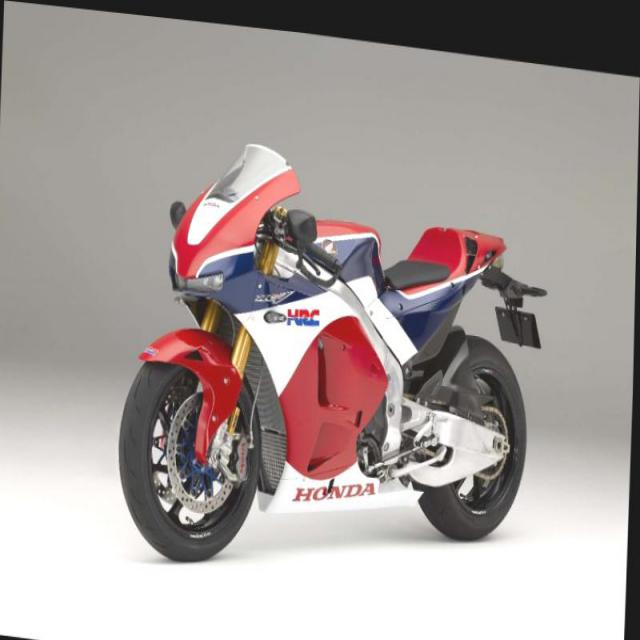HRC RCV 213: (115, 120, 539, 597)
